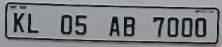character: (26, 11, 40, 33), (122, 15, 136, 37), (193, 15, 207, 37), (12, 10, 25, 33), (59, 13, 72, 36), (74, 13, 87, 36), (152, 15, 165, 38), (108, 15, 121, 37), (166, 16, 179, 37), (180, 16, 193, 37)
